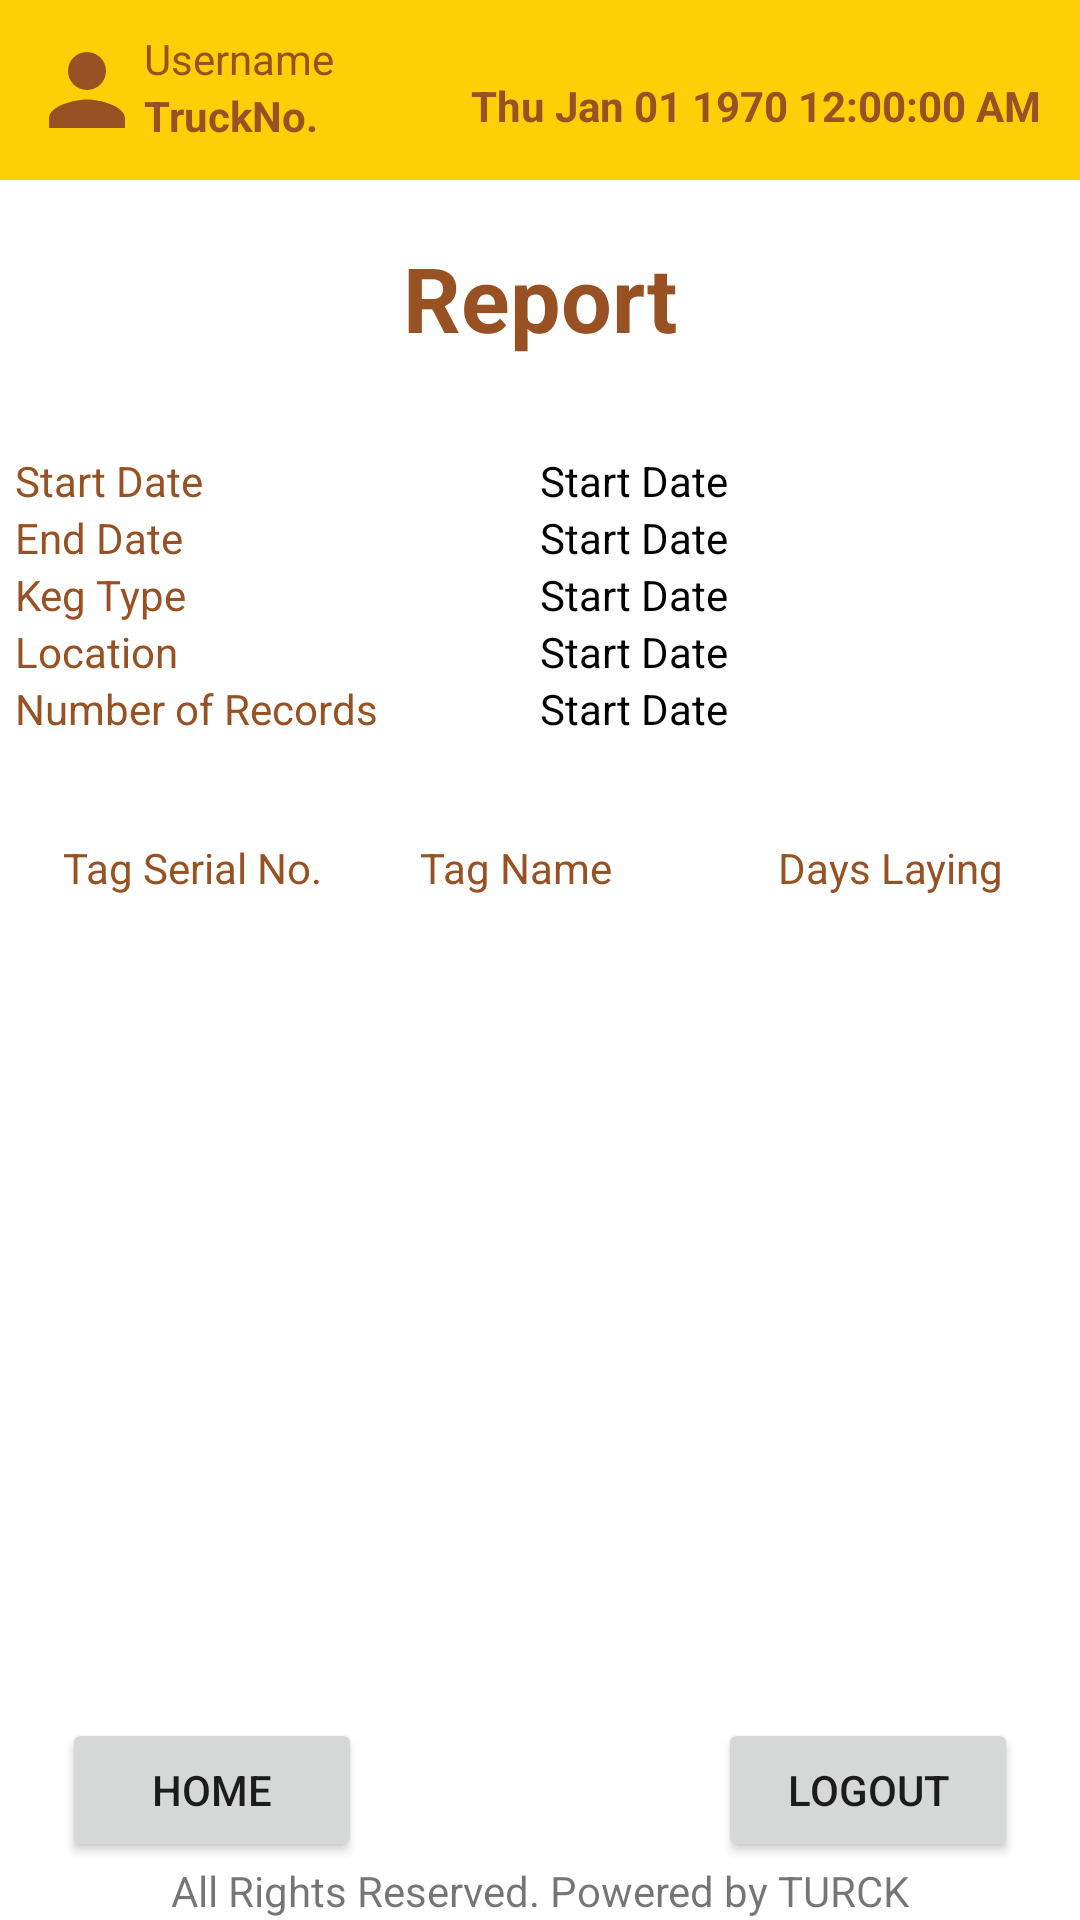

Screen size 1080 x 1920. Icon name, then its center in pixels as (x,y):
person: (87,90)
